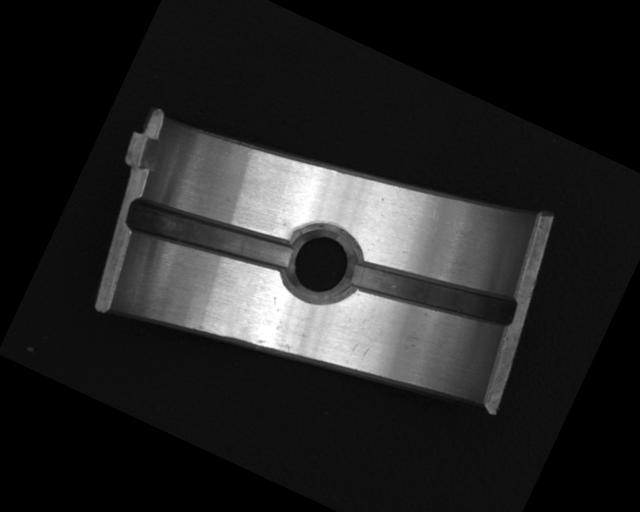gap: (122, 175, 298, 296), (346, 232, 519, 354)
hole: (275, 217, 368, 314)
